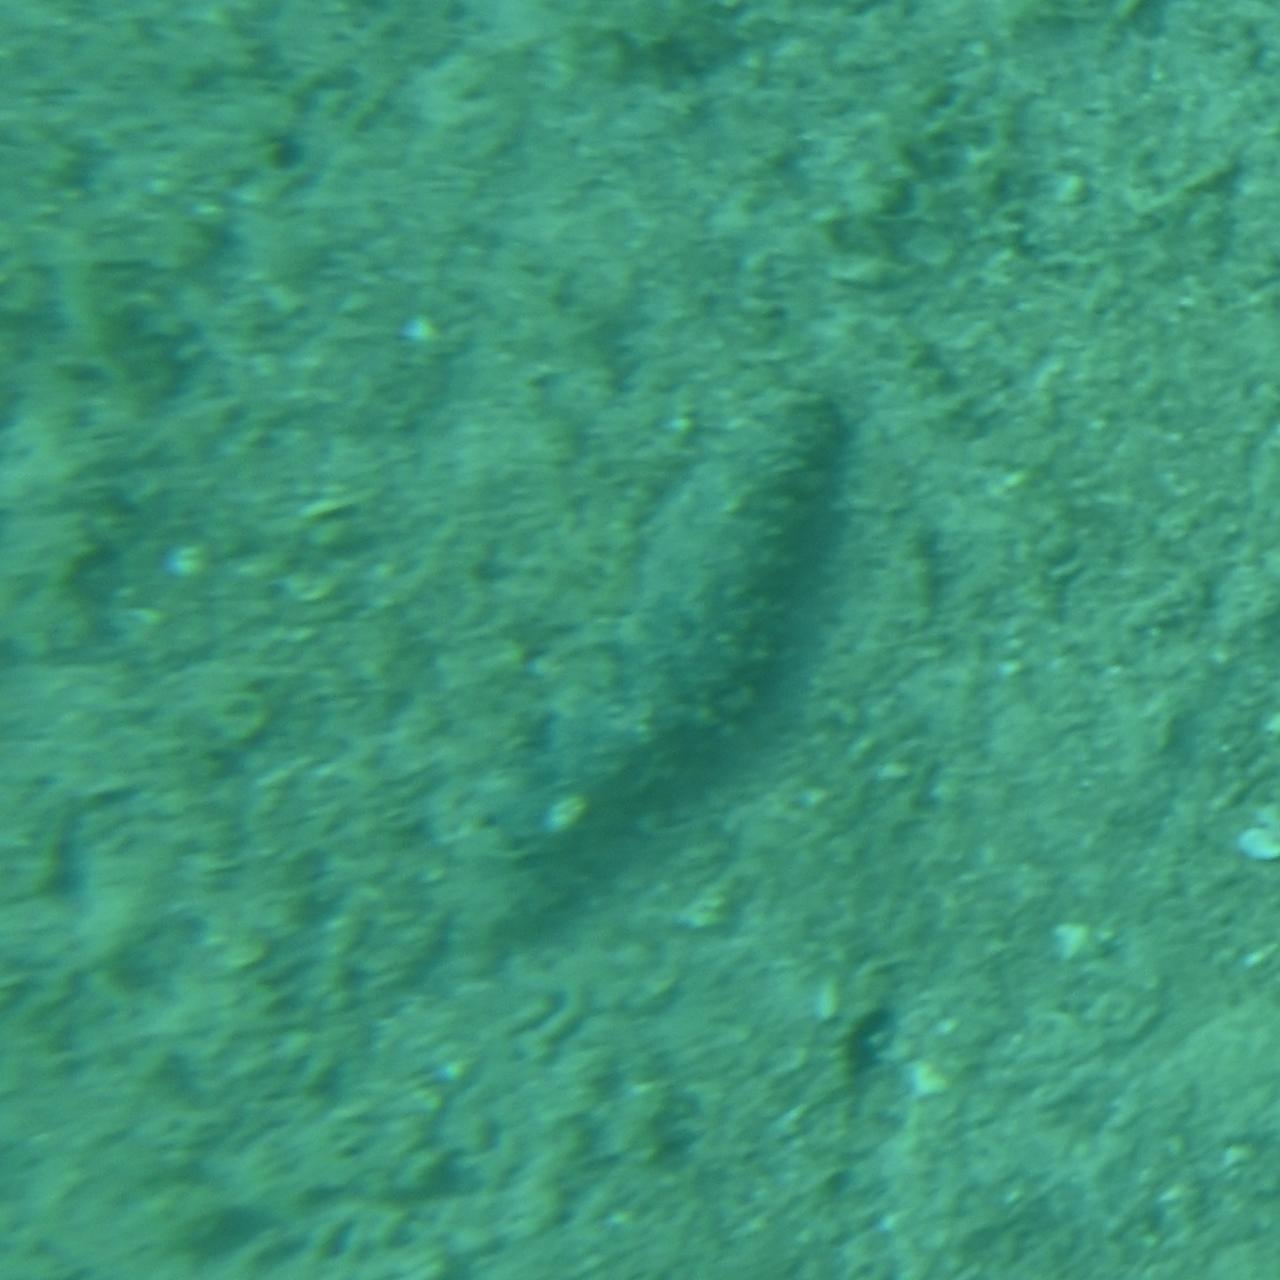Holothuria tubulosa: (418, 364, 862, 916)
